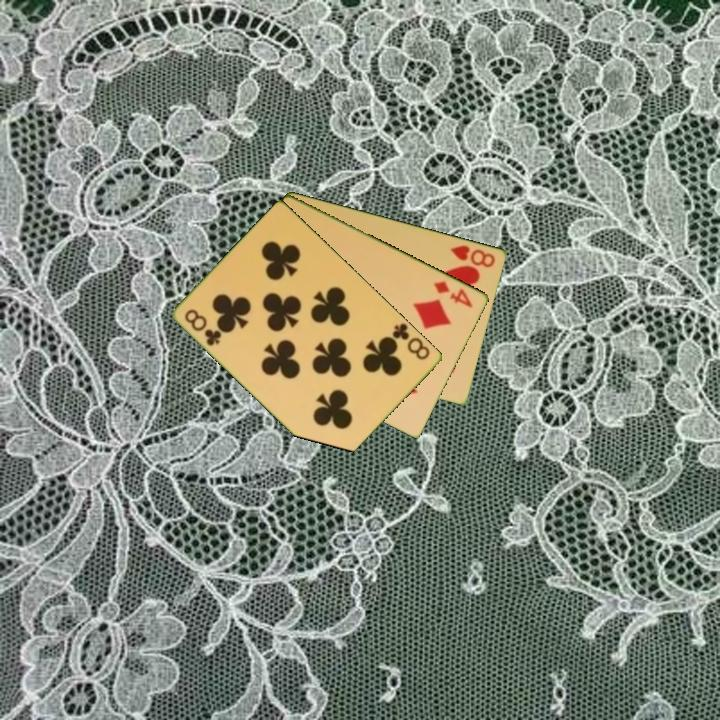4d: (430, 277, 476, 310)
8c: (386, 320, 433, 363), (182, 305, 225, 349)
8h: (448, 241, 498, 270)
